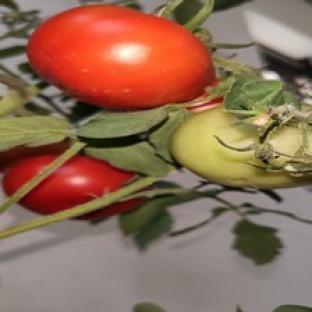Tomato: (27, 5, 214, 110), (172, 108, 311, 189), (21, 155, 135, 214), (0, 141, 69, 171), (187, 92, 222, 112)
